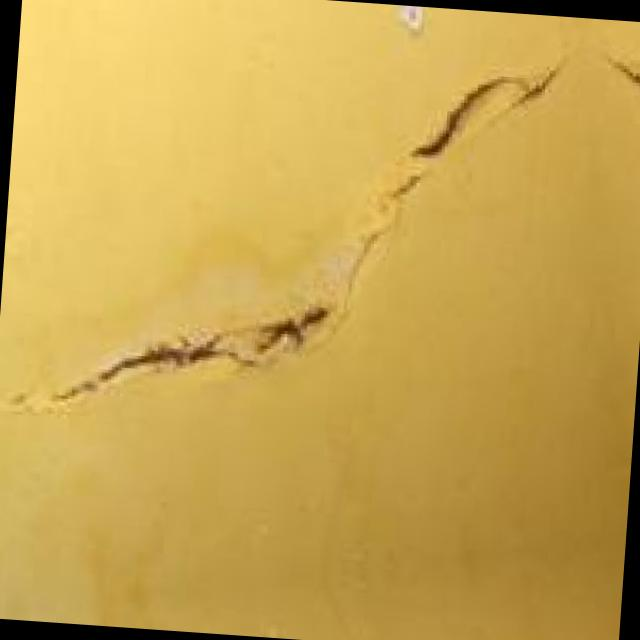crack: (45, 14, 640, 441)
